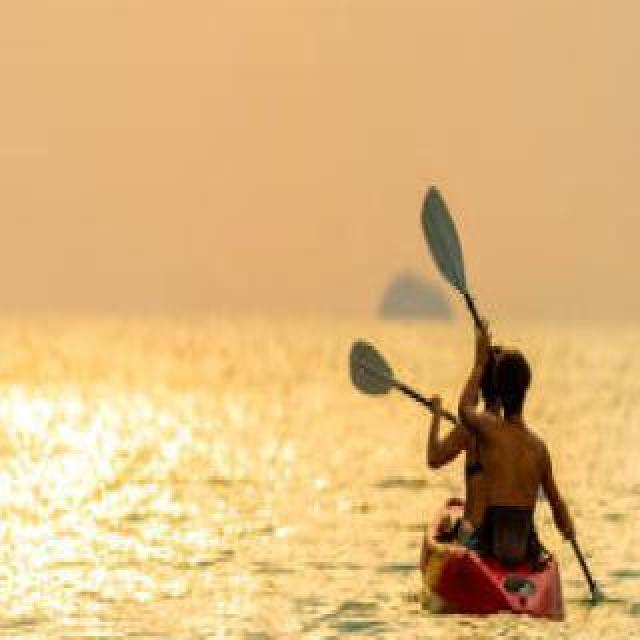kayak: (422, 510, 563, 614)
